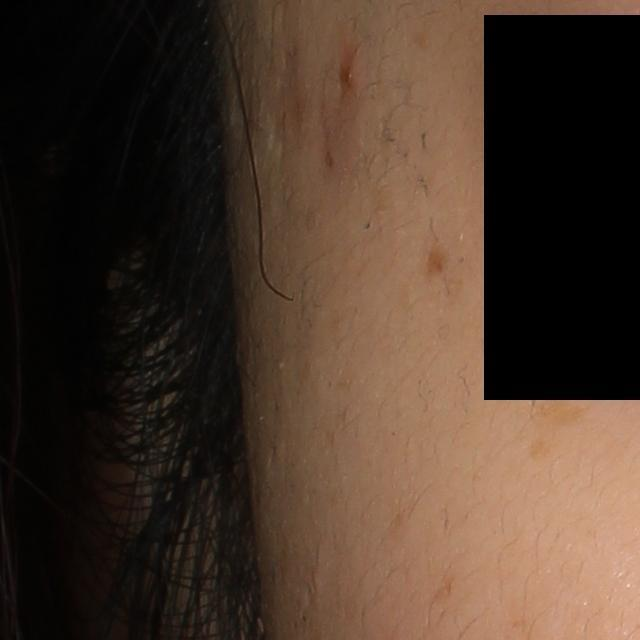melasma: (530, 379, 593, 460)
papule: (336, 50, 368, 94)
